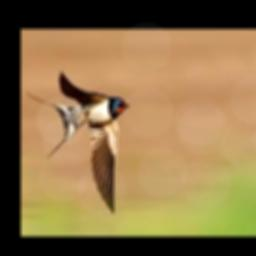Swallow: (27, 71, 130, 214)
